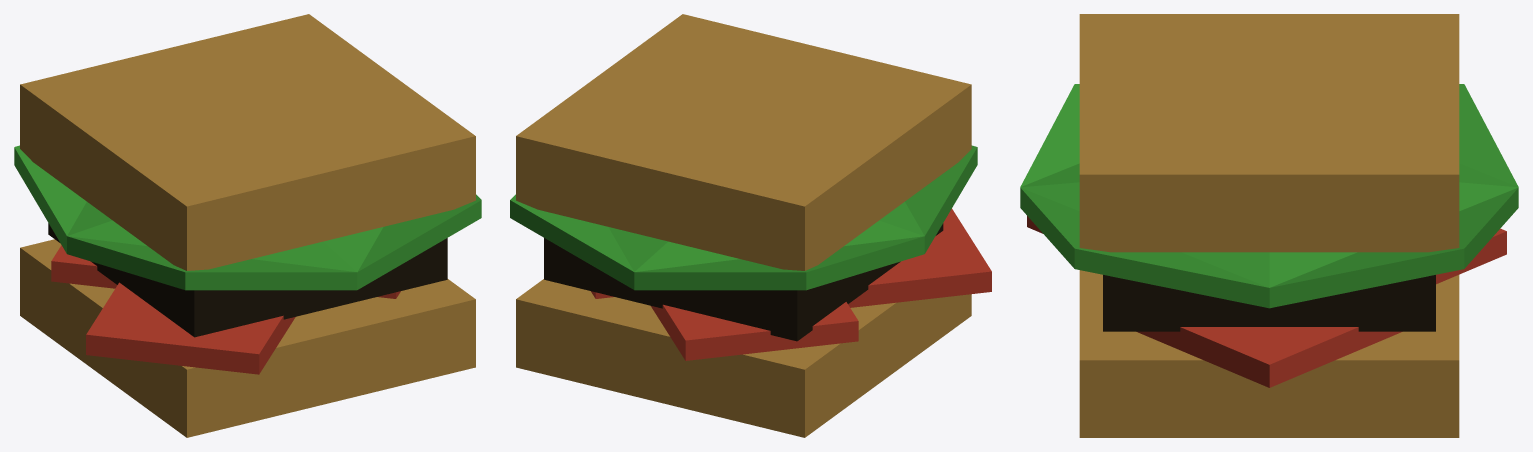
The model's file is Burger.fbx.
3 views of the same model, side by side, from view 1: azimuth 30°, elevation 25°; view 2: azimuth 150°, elevation 25°; view 3: azimuth 270°, elevation 25° (orthographic). The views are drawn at different scales.
Parts seen in each view (by area): view 1: polySurface32; view 2: polySurface32; view 3: polySurface32.
Boxes of the visible parts, left/top/right/bottom form: polySurface32: left=14, top=14, right=481, bottom=437; polySurface32: left=510, top=14, right=991, bottom=437; polySurface32: left=1020, top=14, right=1518, bottom=437.
Size of the model in its own units: 82.98 by 45.94 by 78.79.
